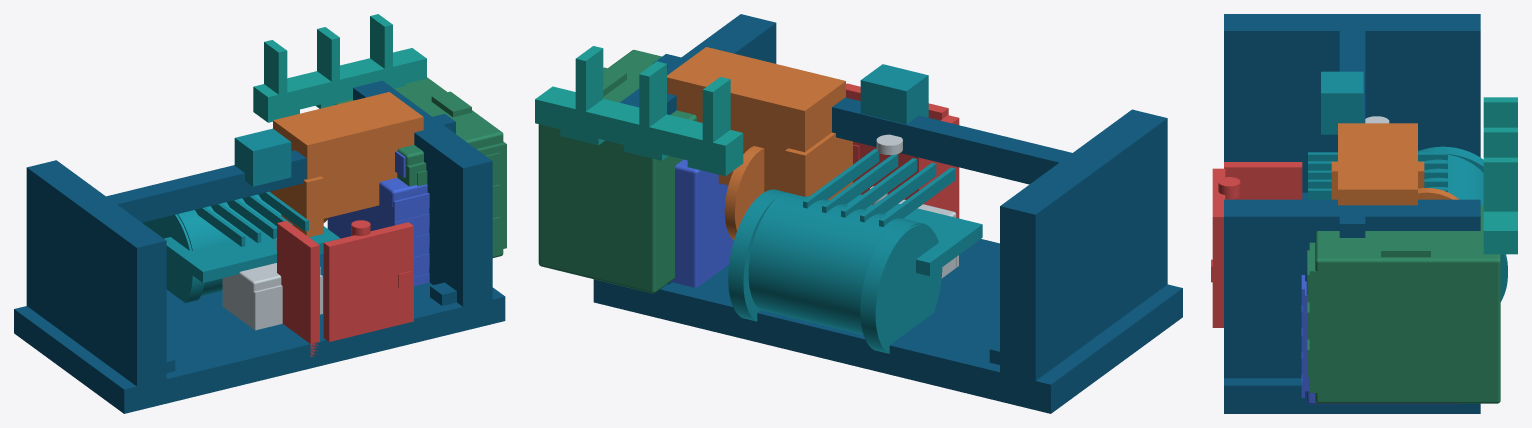
File: regenport_exploded.glb
3 renders of one model, left to right at view 1: azimuth 30°, elevation 25°; view 2: azimuth 150°, elevation 25°; view 3: azimuth 270°, elevation 25°, orthographic. The views are drawn at different scales.
Visible parts, largest first — view 1: regenport.load_crane_interface, regenport.service_emergency_access, regenport.motor_generator, regenport.transmission_brake_path, regenport.dc_link, regenport.storage_buffer, regenport.converter_inverter, regenport.controller_sensors; view 2: regenport.load_crane_interface, regenport.motor_generator, regenport.storage_buffer, regenport.transmission_brake_path, regenport.dc_link, regenport.converter_inverter, regenport.service_emergency_access, regenport.controller_sensors; view 3: regenport.load_crane_interface, regenport.storage_buffer, regenport.transmission_brake_path, regenport.motor_generator, regenport.dc_link, regenport.service_emergency_access, regenport.converter_inverter.
Boxes of the visible parts, x1,y1,x2,y2 form: regenport.load_crane_interface: (14,80,505,413); regenport.service_emergency_access: (277,220,413,357); regenport.motor_generator: (142,128,340,302); regenport.transmission_brake_path: (270,92,423,237); regenport.dc_link: (253,14,426,122); regenport.storage_buffer: (335,77,506,257); regenport.converter_inverter: (327,151,429,286); regenport.controller_sensors: (222,238,322,330); regenport.load_crane_interface: (593,14,1182,413); regenport.motor_generator: (728,64,982,353); regenport.storage_buffer: (538,50,696,293); regenport.transmission_brake_path: (667,47,852,239); regenport.dc_link: (535,46,743,176); regenport.converter_inverter: (672,159,733,287); regenport.service_emergency_access: (846,83,959,218); regenport.controller_sensors: (870,134,958,278); regenport.load_crane_interface: (1224,14,1480,413); regenport.storage_buffer: (1307,205,1500,403); regenport.transmission_brake_path: (1331,123,1458,205); regenport.motor_generator: (1308,71,1507,301); regenport.dc_link: (1483,97,1517,254); regenport.service_emergency_access: (1211,162,1302,327); regenport.converter_inverter: (1301,266,1459,404).
Bounding box in the file's own units: 3960 × 1940 × 2150.
